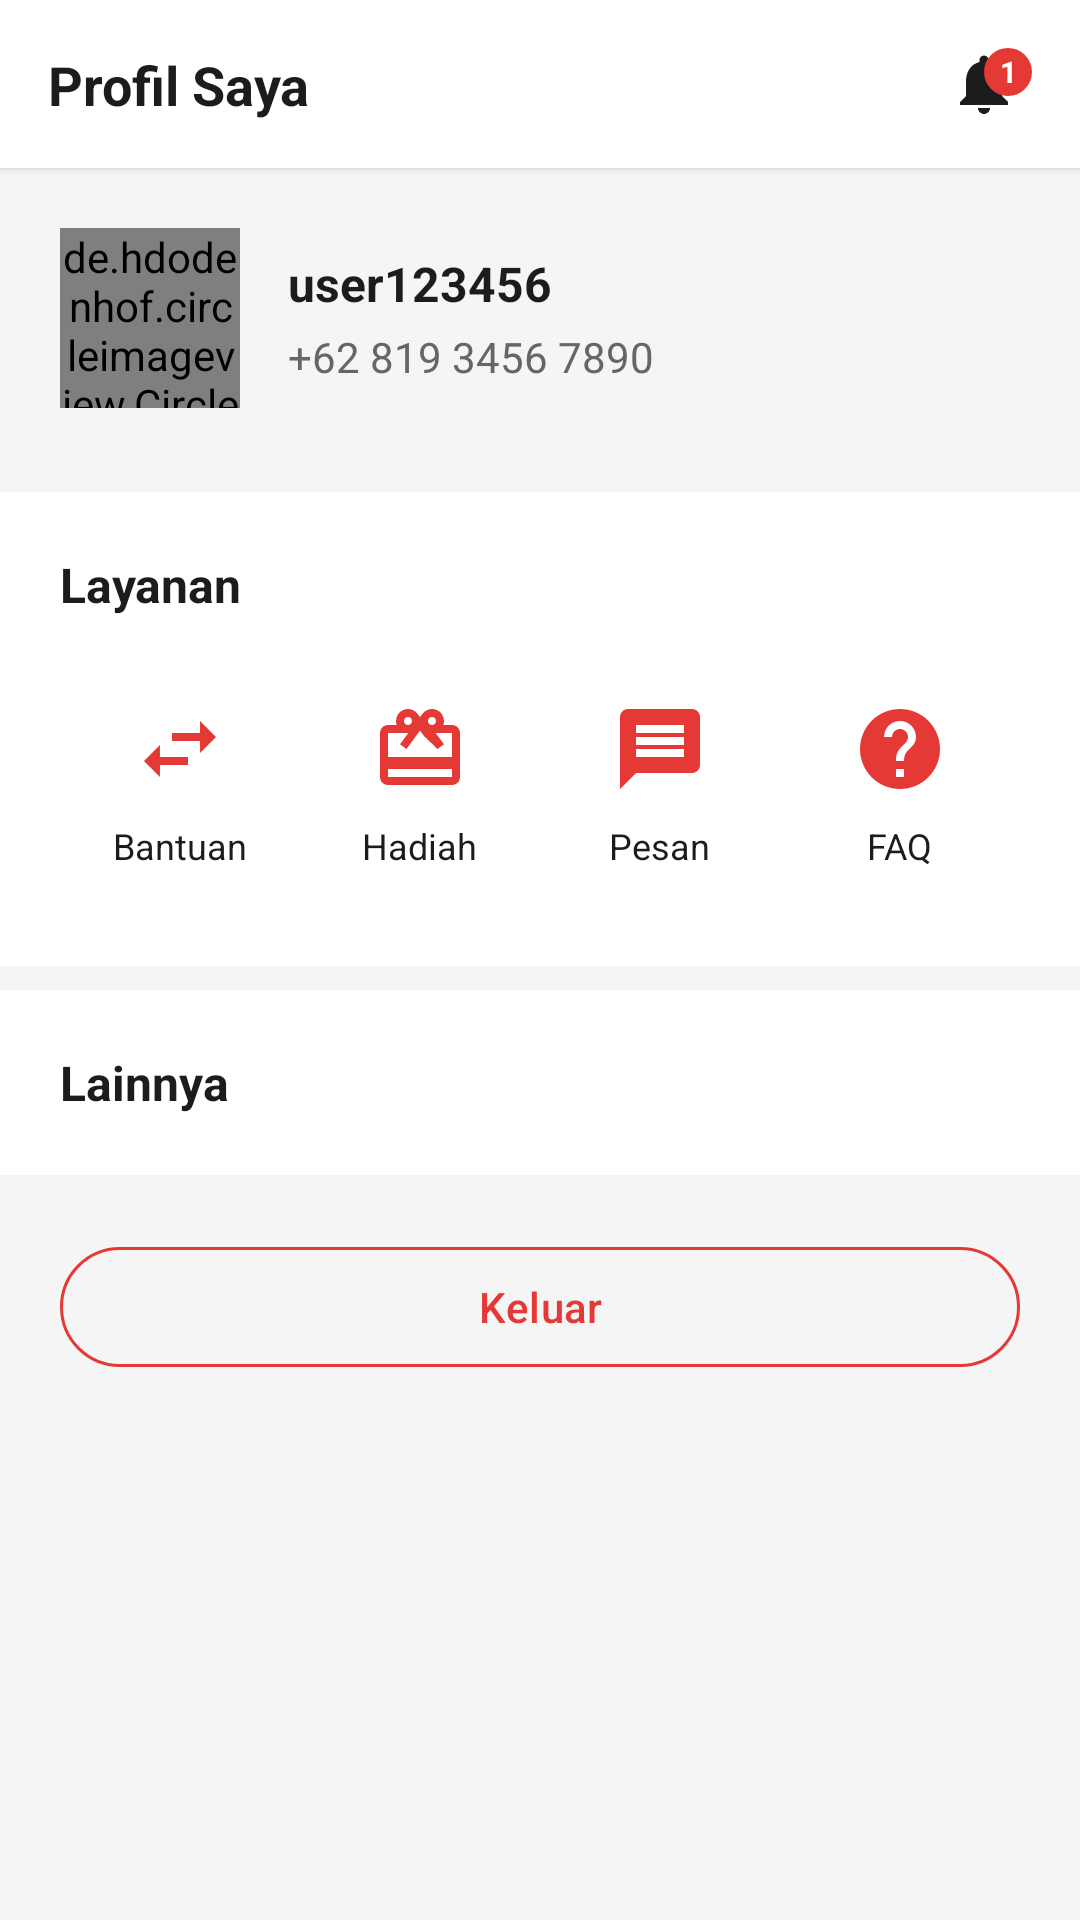

Named icons in this screenshot (1080×1920) and their centers, (x,y):
exchange: (180,749)
gift: (420,747)
message: (660,749)
notifications: (990,81)
